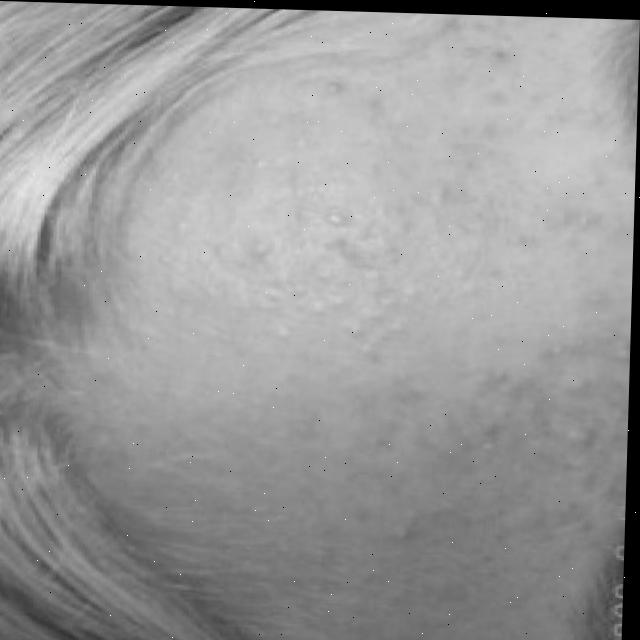Acne: (155, 204, 460, 600)
